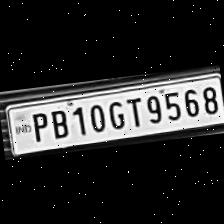0: (85, 99, 108, 133)
1: (66, 102, 88, 136)
5: (159, 88, 182, 122)
6: (179, 85, 200, 118)
8: (196, 81, 220, 115)
9: (140, 90, 163, 124)
B: (45, 105, 71, 140)
G: (102, 96, 125, 130)
P: (25, 107, 49, 143)
T: (122, 93, 144, 128)
